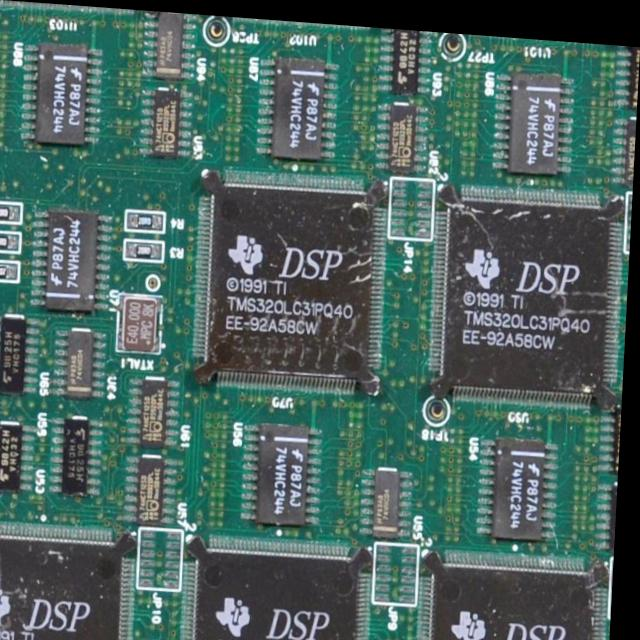IC: (196, 166, 392, 399), (429, 177, 626, 402), (188, 532, 377, 640), (422, 546, 619, 640), (0, 516, 147, 640), (19, 44, 107, 154), (244, 416, 326, 523), (32, 209, 115, 314), (481, 432, 565, 535), (495, 67, 574, 170), (258, 69, 340, 159), (56, 413, 112, 497), (374, 22, 430, 103), (58, 326, 115, 400), (143, 83, 200, 155), (128, 453, 185, 523), (141, 8, 194, 78), (0, 313, 45, 392), (366, 464, 418, 531), (135, 375, 184, 446), (375, 107, 432, 166), (0, 420, 44, 495), (121, 293, 166, 350), (0, 0, 160, 16), (612, 36, 640, 99), (603, 392, 625, 465), (613, 111, 637, 176), (600, 476, 622, 543)
resistor: (126, 207, 168, 233), (125, 236, 168, 261), (0, 260, 21, 281), (0, 233, 23, 252), (0, 202, 21, 219)
